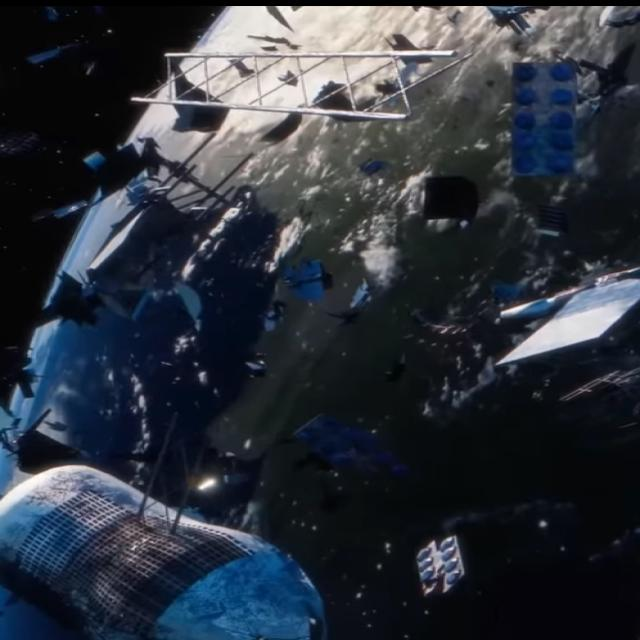large_debris: (0, 433, 338, 640), (30, 132, 284, 346), (123, 34, 465, 138), (466, 232, 640, 389), (490, 39, 591, 202), (397, 158, 490, 239), (395, 520, 466, 606), (270, 244, 352, 312)
